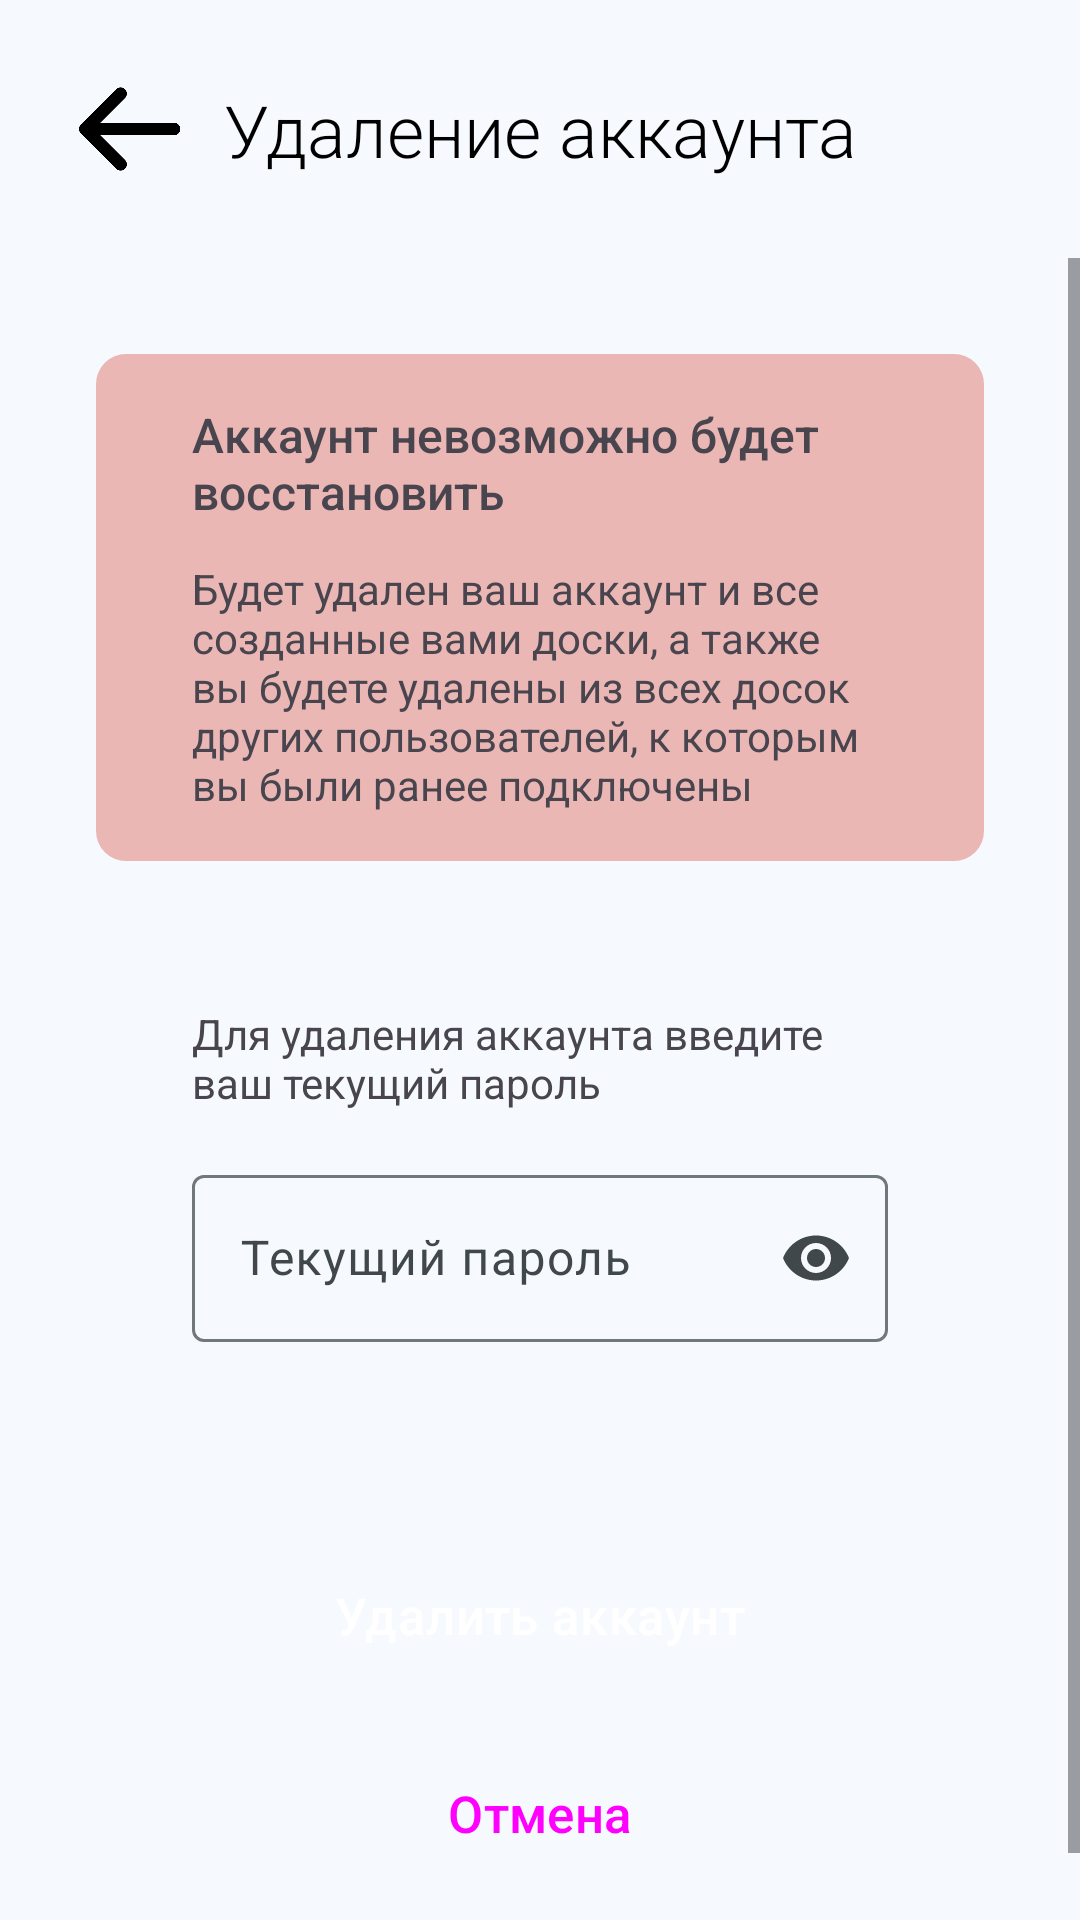

Icons on this 1080 x 1920 Android screen, each with its box as (x1, y1, x2, y2):
back: (79, 87, 180, 171)
